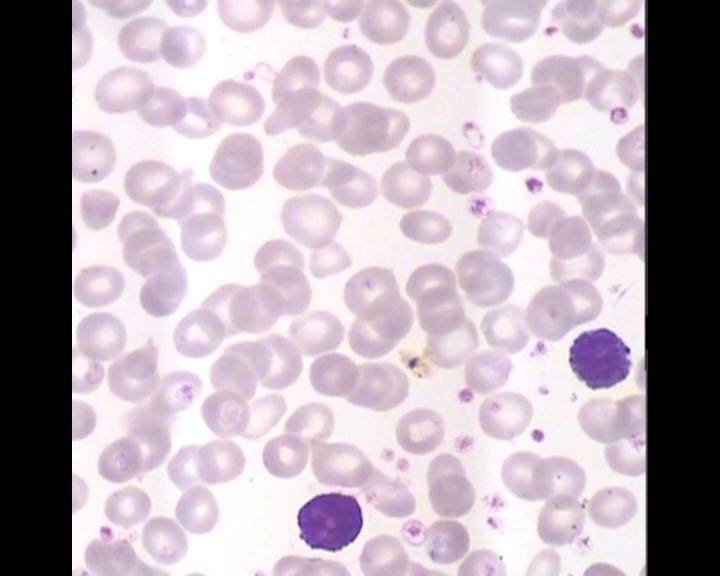baso: (289, 486, 366, 553), (566, 325, 633, 389)
